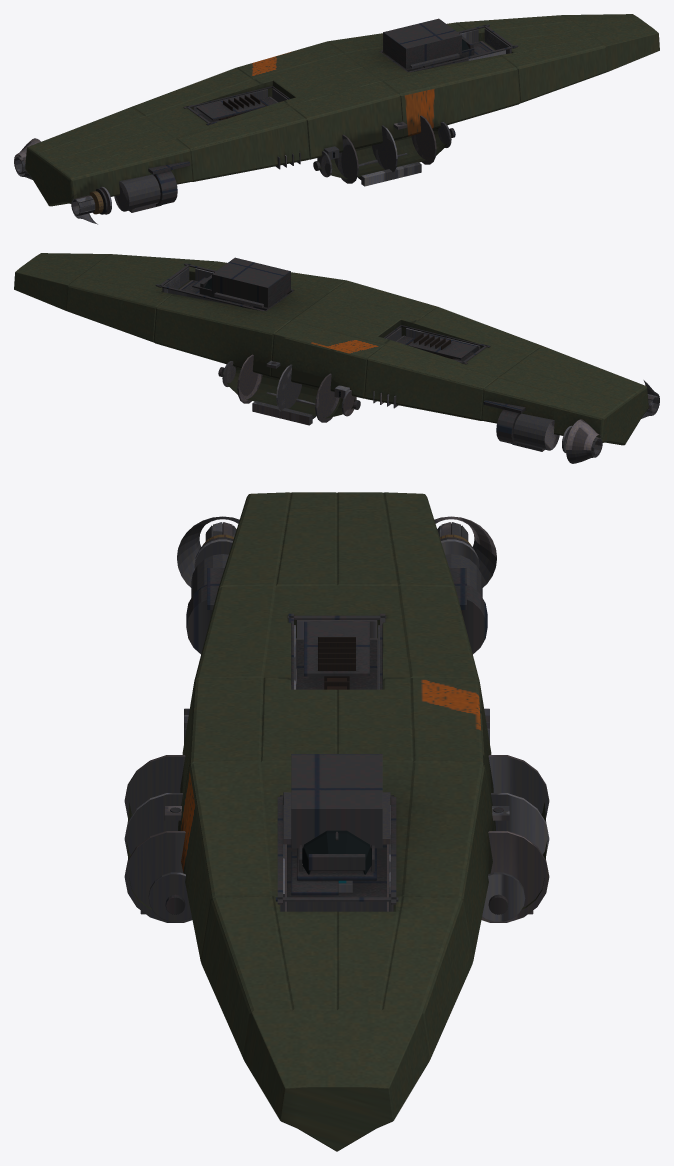
Rendered from mule_production_v1_lod1.glb.
3 views of the same model, one above another, from view 1: azimuth 30°, elevation 25°; view 2: azimuth 150°, elevation 25°; view 3: azimuth 270°, elevation 25° (orthographic). The views are drawn at different scales.
Parts seen in each view (by area): view 1: LOD1_Hull, LOD1_Mechanical, LOD1_Armor, LOD1_Radiator; view 2: LOD1_Hull, LOD1_Mechanical, LOD1_Armor, LOD1_Radiator; view 3: LOD1_Hull, LOD1_Mechanical, LOD1_Armor, LOD1_Radiator, LOD1_Canopy.
Boxes of the visible parts, x1=… form: LOD1_Hull: x1=25, y1=14, x2=659, y2=206; LOD1_Mechanical: x1=14, y1=28, x2=511, y2=224; LOD1_Armor: x1=96, y1=18, x2=518, y2=214; LOD1_Radiator: x1=218, y1=94, x2=266, y2=120; LOD1_Hull: x1=14, y1=253, x2=648, y2=445; LOD1_Mechanical: x1=162, y1=267, x2=659, y2=463; LOD1_Armor: x1=155, y1=257, x2=568, y2=445; LOD1_Radiator: x1=407, y1=333, x2=455, y2=359; LOD1_Hull: x1=126, y1=492, x2=547, y2=1151; LOD1_Mechanical: x1=124, y1=516, x2=549, y2=922; LOD1_Armor: x1=165, y1=537, x2=508, y2=914; LOD1_Radiator: x1=318, y1=637, x2=355, y2=689; LOD1_Canopy: x1=302, y1=830, x2=371, y2=874.
Size of what is drawn, in the model's own units: 17.54 by 2.74 by 5.39.
9 materials, 9 textured.
